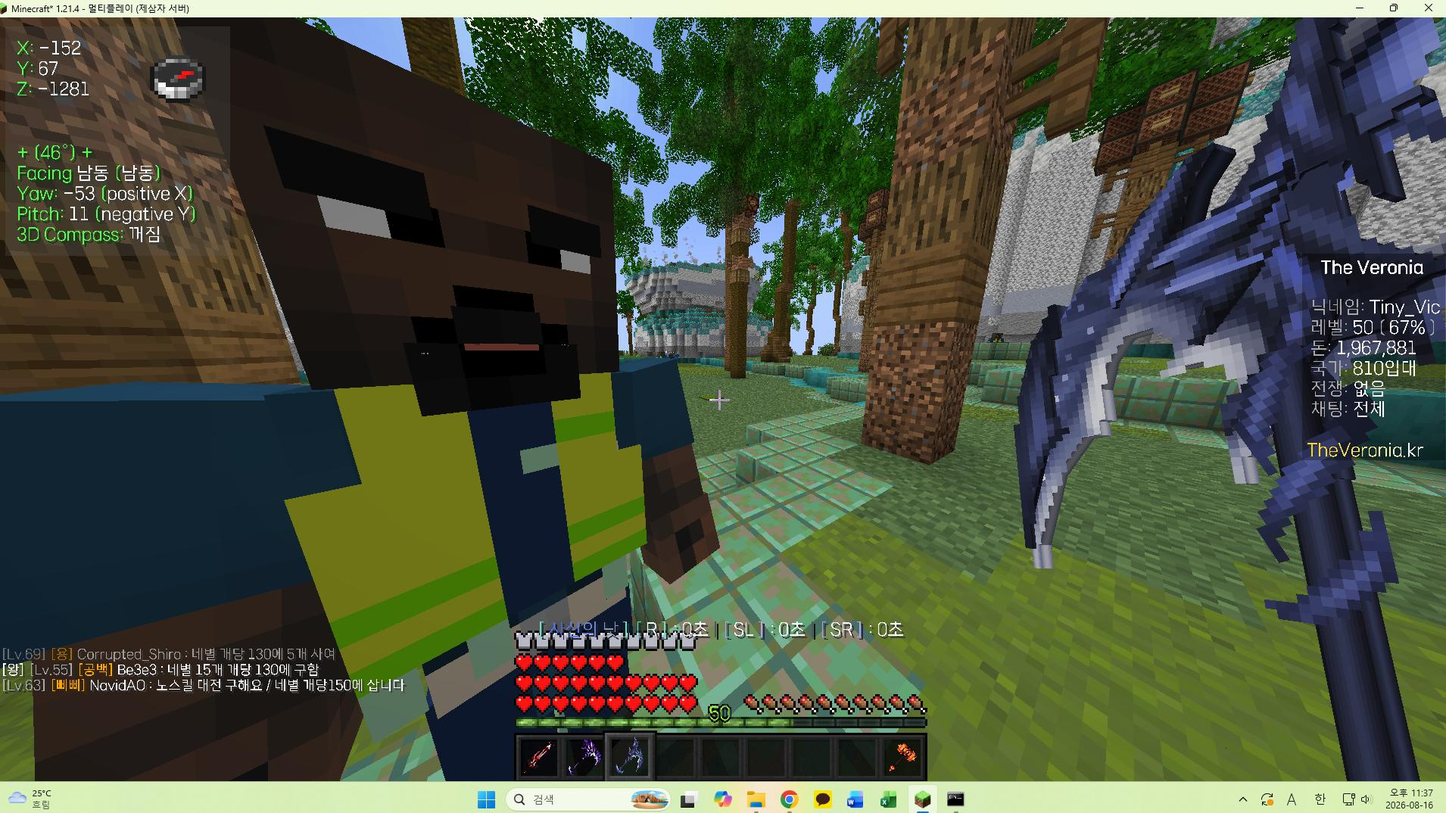Guardian: (0, 18, 718, 779)
